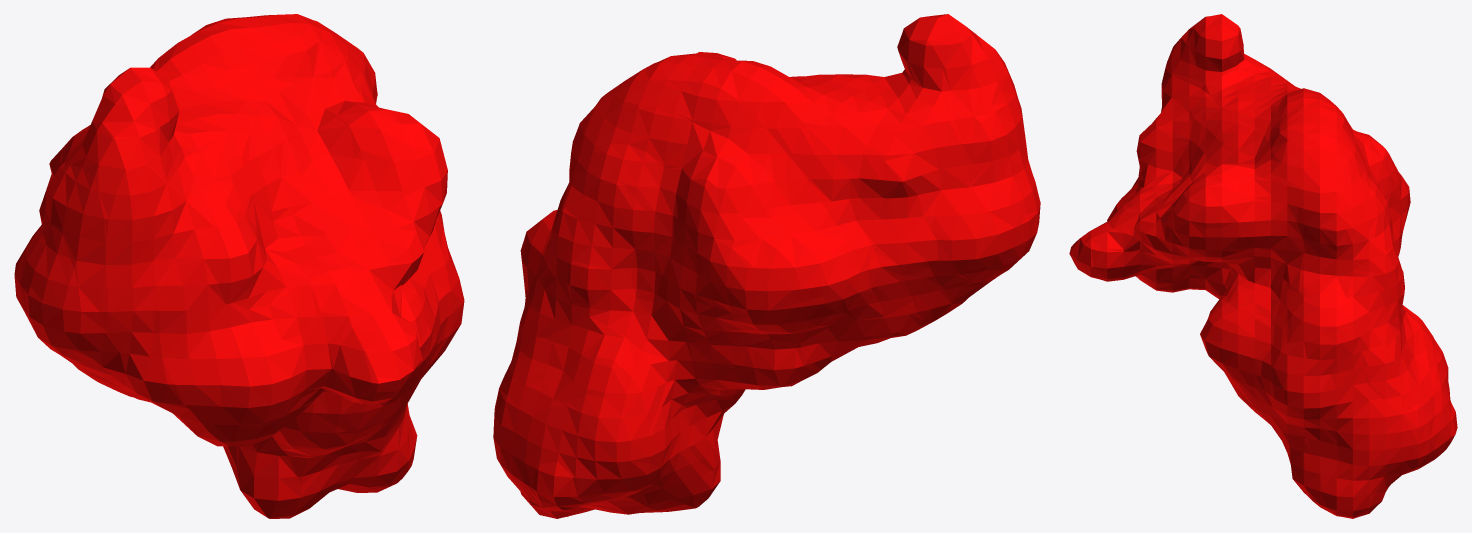
The model's file is trpS_coarse.dae.
3 renders of one model, left to right at view 1: azimuth 30°, elevation 25°; view 2: azimuth 150°, elevation 25°; view 3: azimuth 270°, elevation 25°, orthographic. The views are drawn at different scales.
Parts seen in each view (by area): view 1: trpS; view 2: trpS; view 3: trpS.
Part boxes in pixels (x1,y1,x2,y2): trpS: [14, 14, 464, 518]; trpS: [493, 14, 1040, 518]; trpS: [1069, 14, 1457, 518].
Size of the model in its own units: 62.48 by 69 by 62.05.
